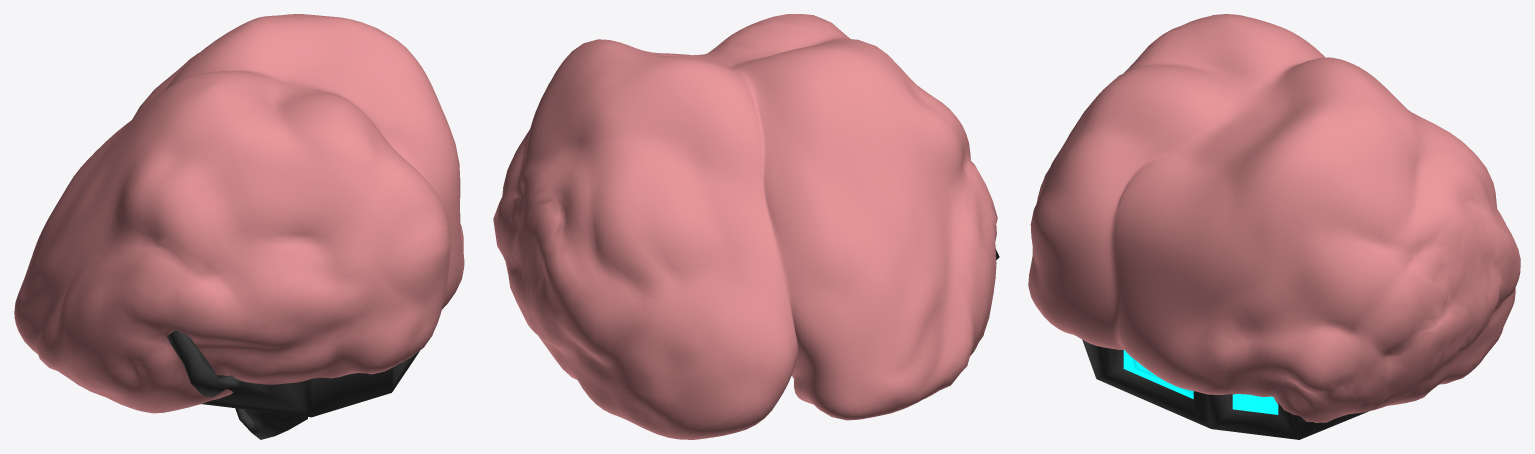
Rendered from CerebroAstralis.glb.
The picture shows the model from 3 angles, left to right: view 1: azimuth 30°, elevation 25°; view 2: azimuth 150°, elevation 25°; view 3: azimuth 270°, elevation 25°; orthographic projection. The views are drawn at different scales.
Parts seen in each view (by area): view 1: Mesh0, Cube; view 2: Mesh0; view 3: Mesh0, Cube.
Part boxes in pixels (bbox=[...]): Mesh0: bbox=[14, 14, 464, 413]; Cube: bbox=[167, 330, 419, 439]; Mesh0: bbox=[493, 14, 997, 439]; Mesh0: bbox=[1028, 14, 1520, 422]; Cube: bbox=[1082, 340, 1368, 439].
Size of the model in its own units: 228 by 177 by 221.
